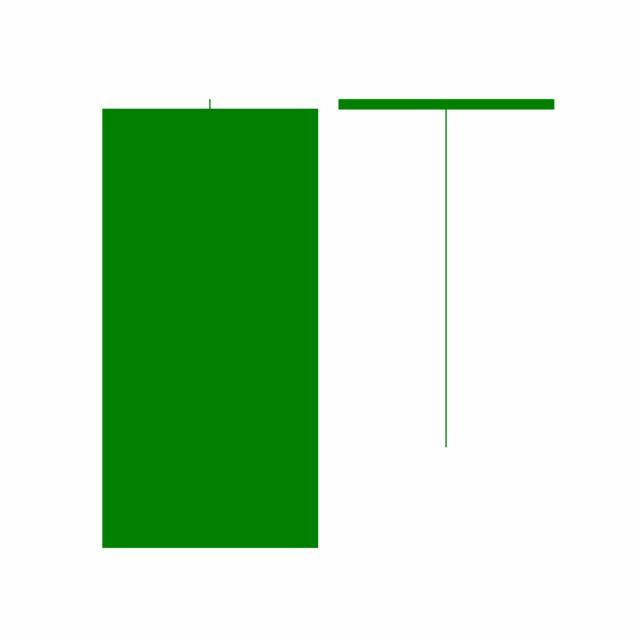Hanging Man: (328, 96, 566, 452)
